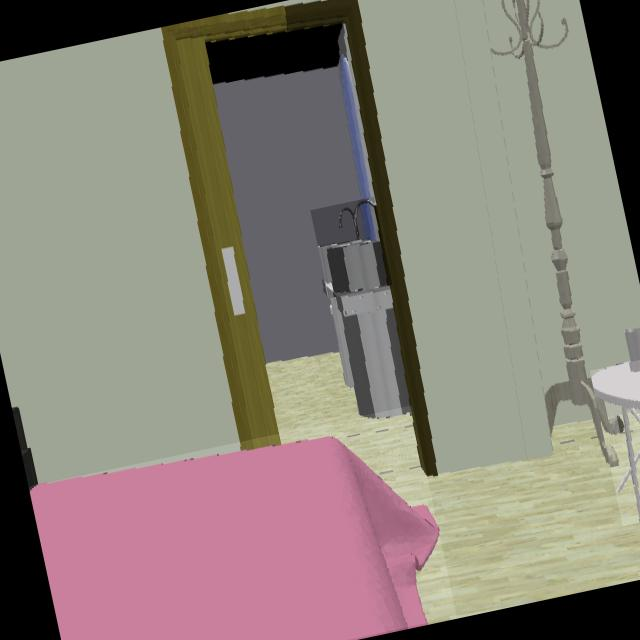bed: (30, 438, 439, 640)
sink: (319, 197, 387, 292)
table: (592, 362, 640, 506)
